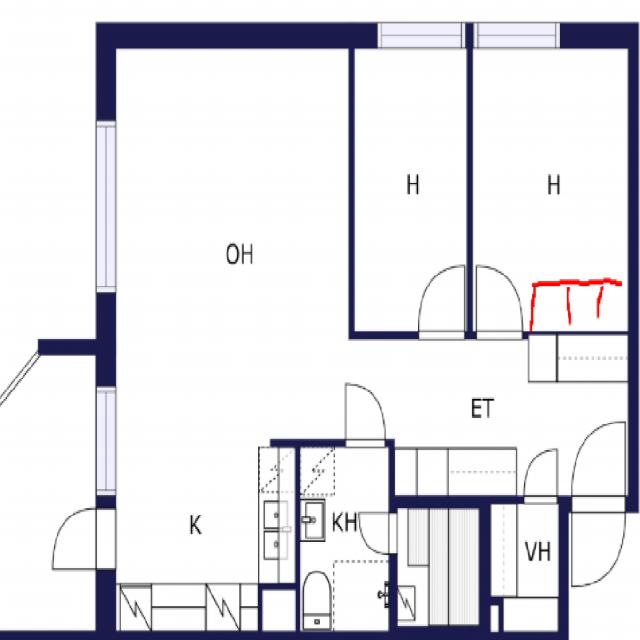door: (572, 496, 624, 586), (572, 422, 624, 512), (53, 508, 115, 568), (418, 265, 464, 339), (476, 267, 522, 339), (346, 385, 385, 448), (524, 449, 556, 504), (358, 512, 397, 554)
